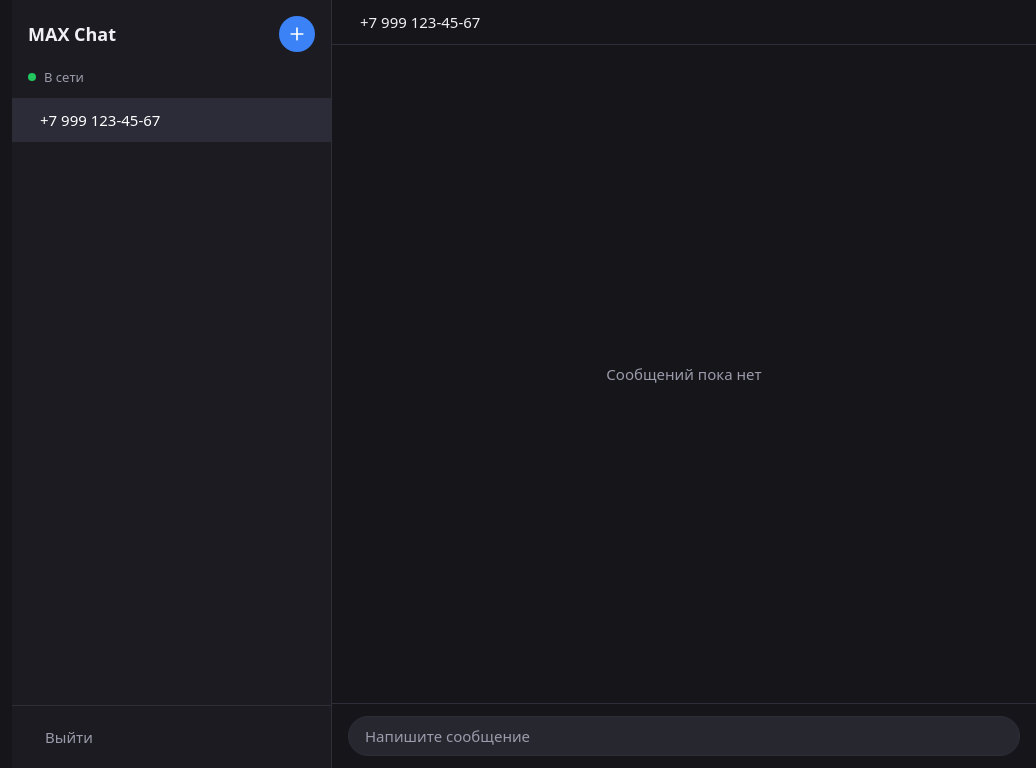
ChatPage › lets the user retry a failed message
The width and height of the screenshot is (1036, 768).
In the text box labelled "сообщение": (684, 736) [348,716,1020,756], type "Привет"
Then press Enter
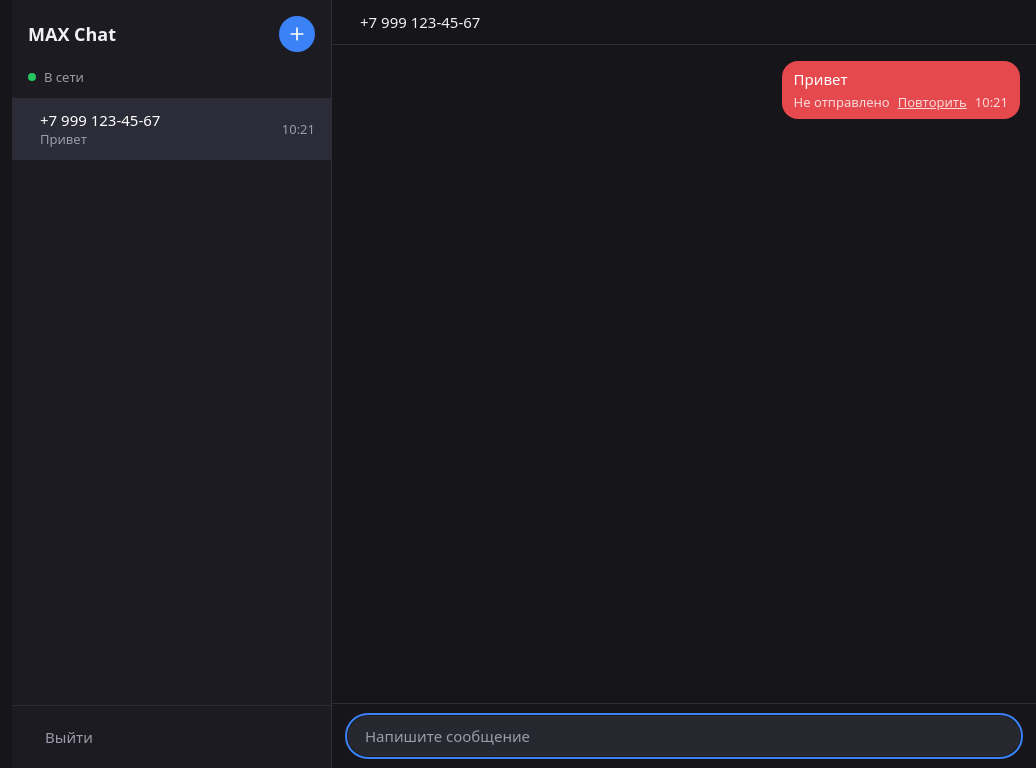
Now the text "Не отправлено" is shown, box [794,93,890,111]
Click the button "Повторить": click(932, 102) [898,93,967,111]
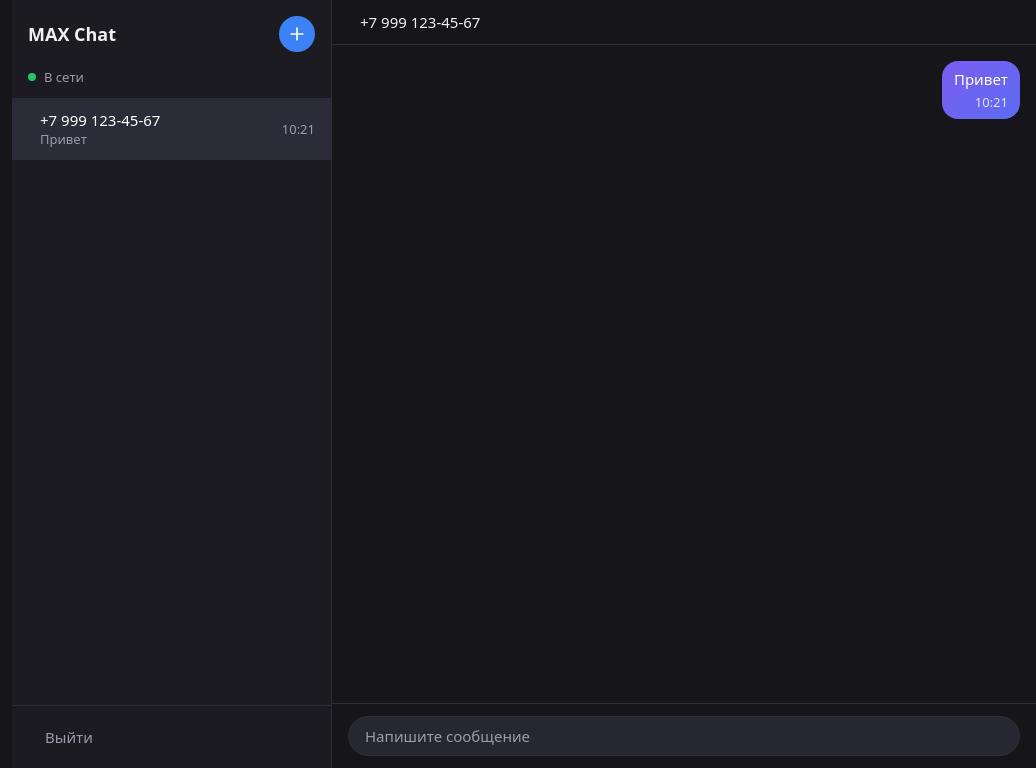
Now the text "Не отправлено" is gone
